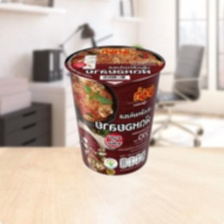paper_cup: (60, 39, 168, 181)
